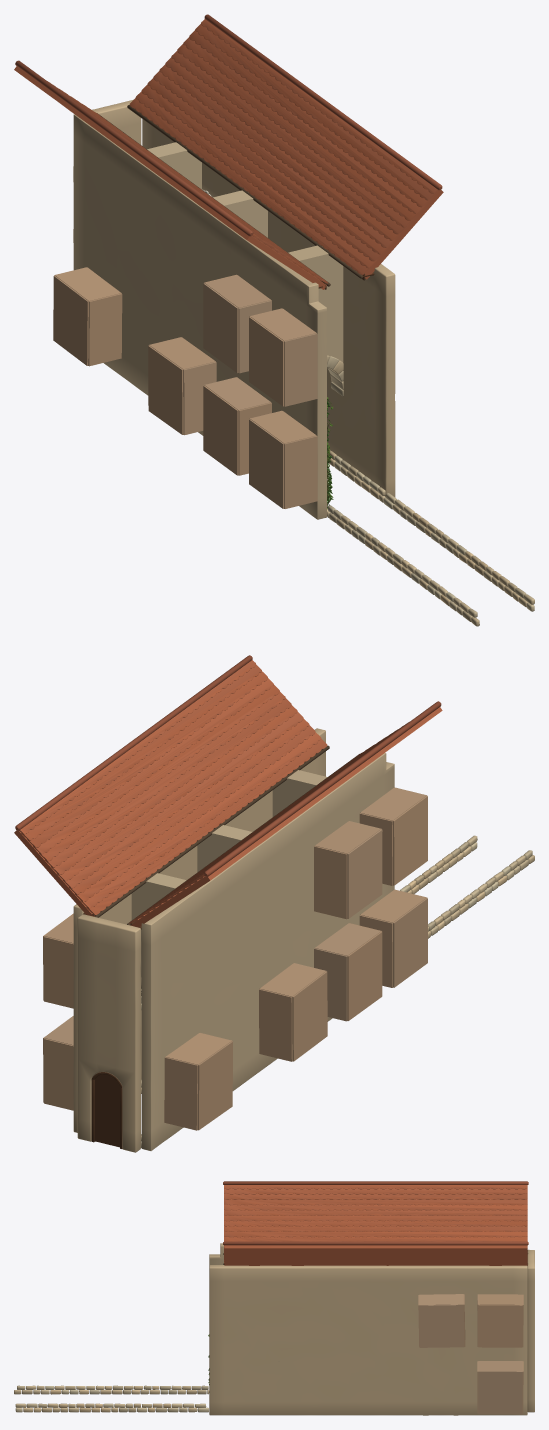
The model's file is alley_opposite.glb.
3 renders of one model, top to bottom at view 1: azimuth 30°, elevation 25°; view 2: azimuth 150°, elevation 25°; view 3: azimuth 270°, elevation 25°, orthographic. The views are drawn at different scales.
Parts seen in each view (by area): view 1: Sammel Quader, Sammel Stein, Sammel Putz innen, Sammel Metall; view 2: Sammel Quader, Sammel Stein, Sammel Putz innen, Sammel Holz, Sammel Metall; view 3: Sammel Quader, Sammel Stein, Sammel Putz innen.
Part boxes in pixels (box(x1,y1,x2,y2)): Sammel Quader: box(73, 99, 395, 519); Sammel Stein: box(14, 14, 534, 626); Sammel Putz innen: box(53, 267, 317, 508); Sammel Metall: box(97, 105, 363, 286); Sammel Quader: box(73, 728, 394, 1152); Sammel Stein: box(14, 655, 534, 1147); Sammel Putz innen: box(43, 787, 427, 1130); Sammel Holz: box(83, 913, 141, 1148); Sammel Metall: box(94, 745, 359, 925); Sammel Quader: box(209, 1243, 534, 1415); Sammel Stein: box(14, 1181, 528, 1412); Sammel Putz innen: box(418, 1294, 523, 1414).
Size of the model in its own units: 6.04 by 8.67 by 21.24.
